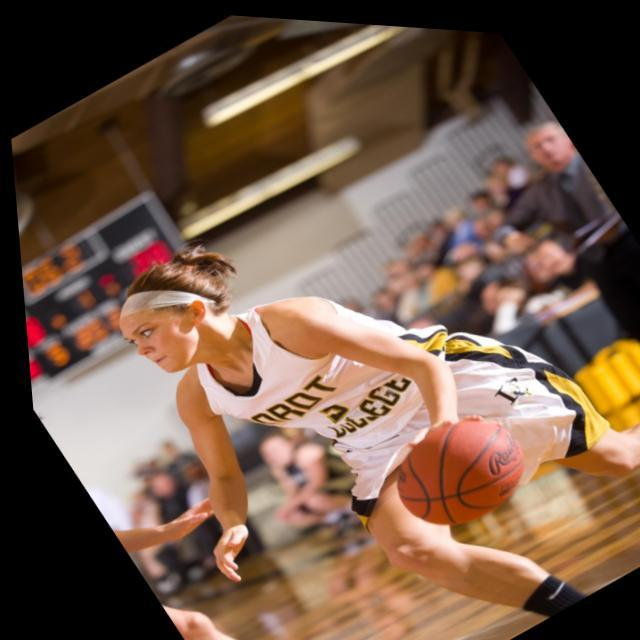Nonhelmet: (112, 253, 227, 377)
